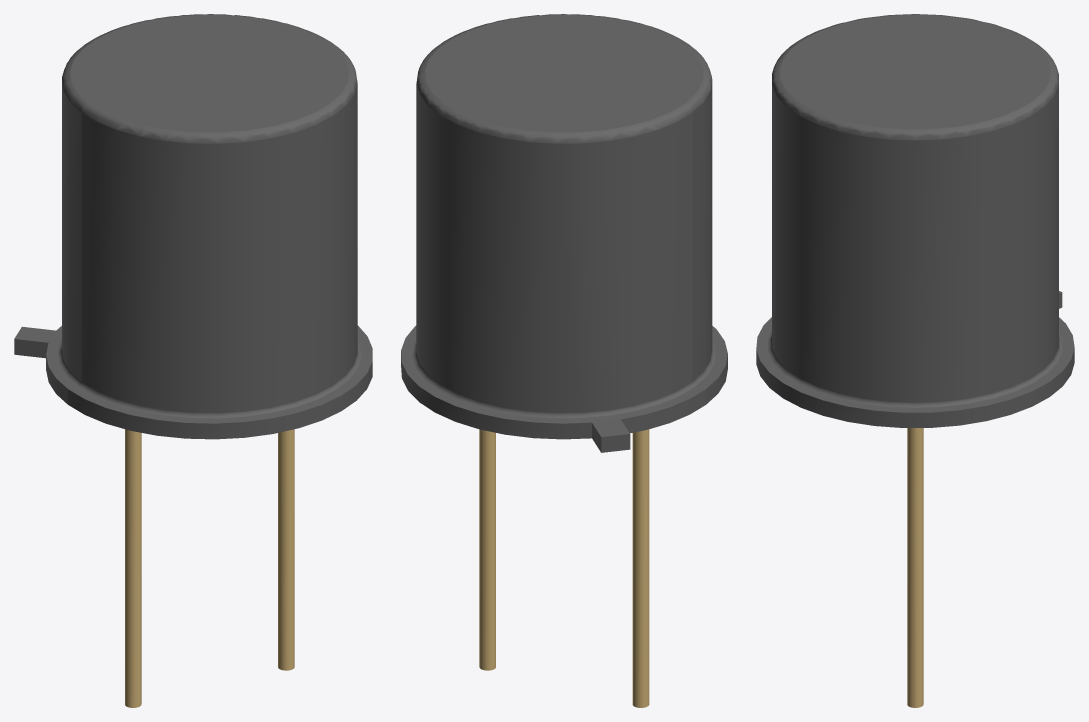
The picture shows the model from 3 angles, left to right: view 1: azimuth 30°, elevation 25°; view 2: azimuth 150°, elevation 25°; view 3: azimuth 270°, elevation 25°; orthographic projection. The views are drawn at different scales.
Parts seen in each view (by area): view 1: 0.16666666666666666_0.16666666666666666_0.16666666666666666_, 0.75_0.5_0.25_0.9; view 2: 0.16666666666666666_0.16666666666666666_0.16666666666666666_, 0.75_0.5_0.25_0.9; view 3: 0.16666666666666666_0.16666666666666666_0.16666666666666666_, 0.75_0.5_0.25_0.9.
Part boxes in pixels (x1,y1,x2,y2): 0.16666666666666666_0.16666666666666666_0.16666666666666666_: [14, 14, 372, 439]; 0.75_0.5_0.25_0.9: [125, 429, 294, 707]; 0.16666666666666666_0.16666666666666666_0.16666666666666666_: [401, 14, 727, 452]; 0.75_0.5_0.25_0.9: [479, 429, 649, 707]; 0.16666666666666666_0.16666666666666666_0.16666666666666666_: [756, 14, 1074, 427]; 0.75_0.5_0.25_0.9: [907, 428, 923, 707].
Size of the model in its own units: 0.9386 by 1.94 by 0.9392.
